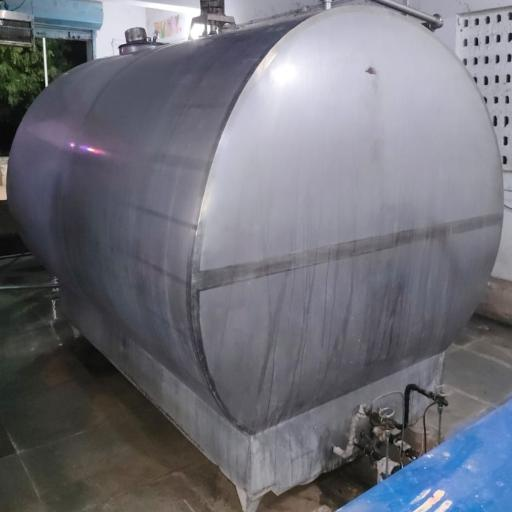silo: (5, 2, 504, 500)
